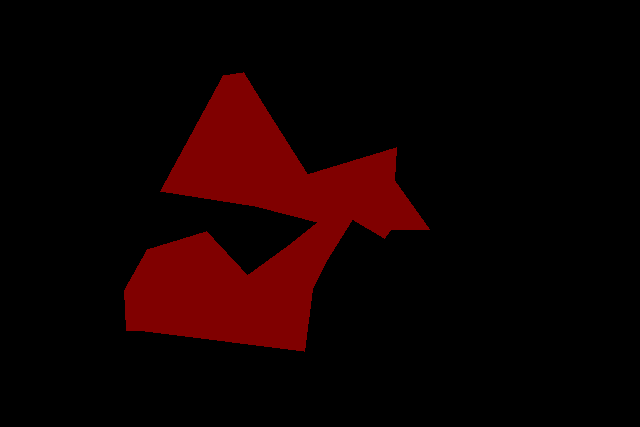fire: (124, 72, 429, 351)
